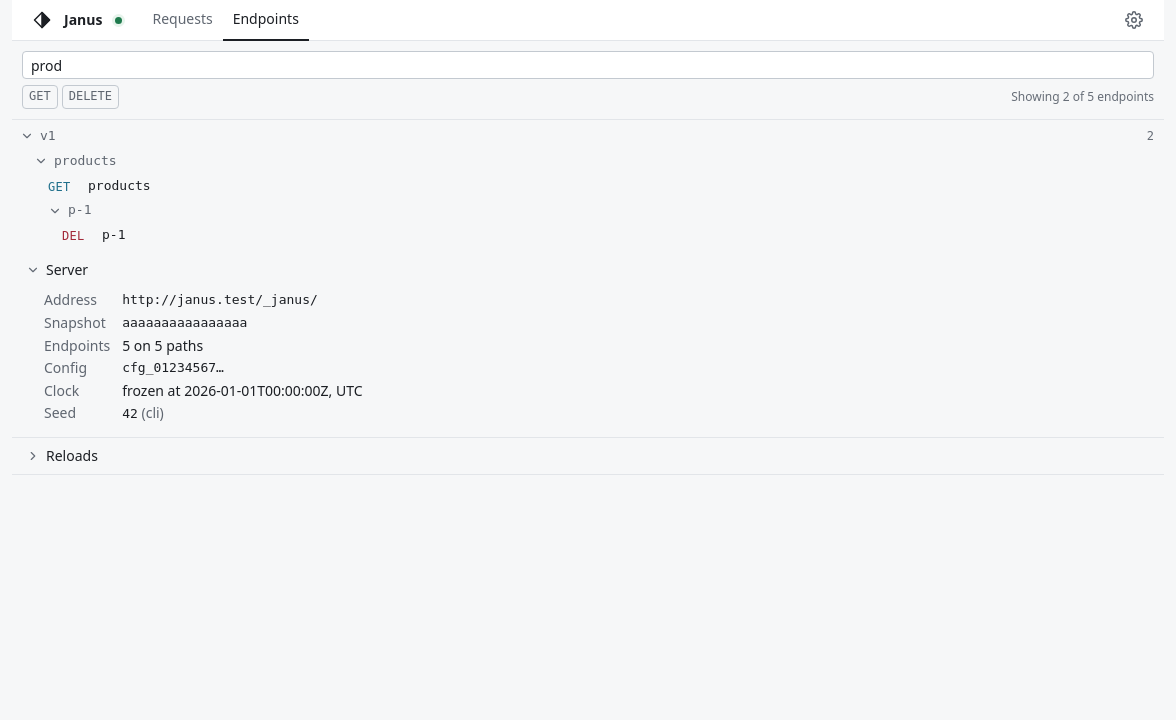
Test: responsive layout › makes the inventory its own view up to 768 px, with a back link from details
The width and height of the screenshot is (1176, 720).
Expected: the search field holds "prod", [22,51,1154,79]
Click the link with aria-label "GET /v1/products, scenario default". click: [99, 186]
box: [48,178,151,194]
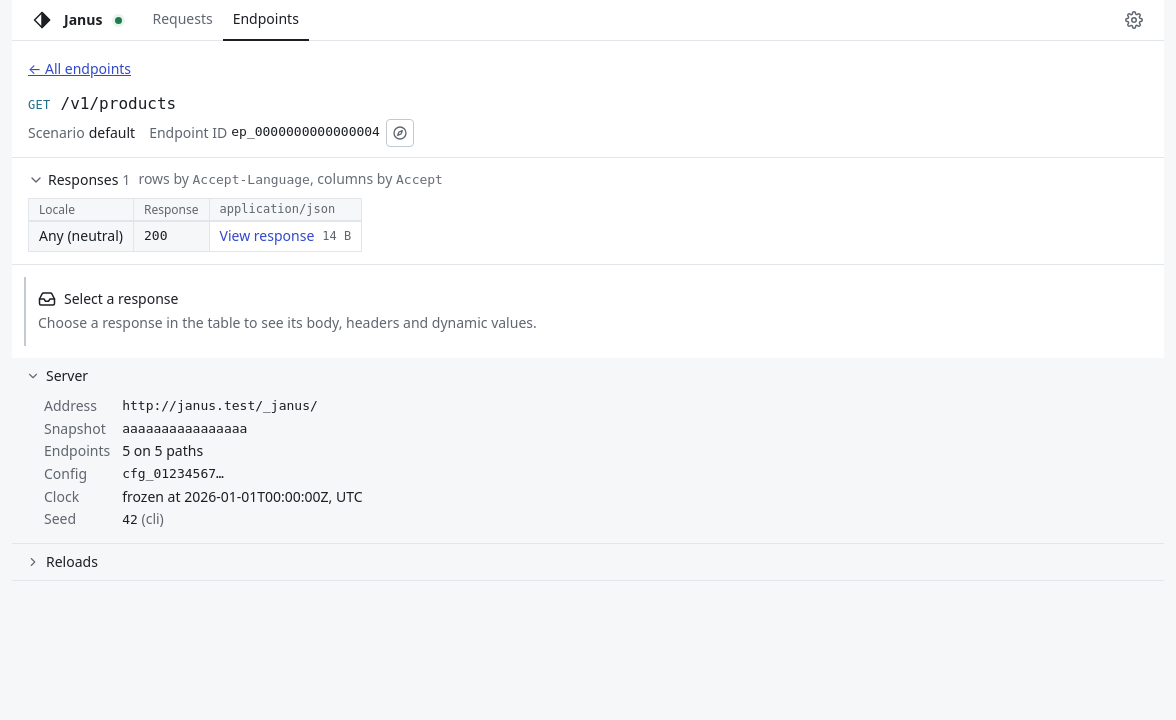
Expected: the heading "GET /v1/products" is shown, [28,94,176,113]
Click the link "← All endpoints". click: [80, 69]
box: [28,57,131,81]
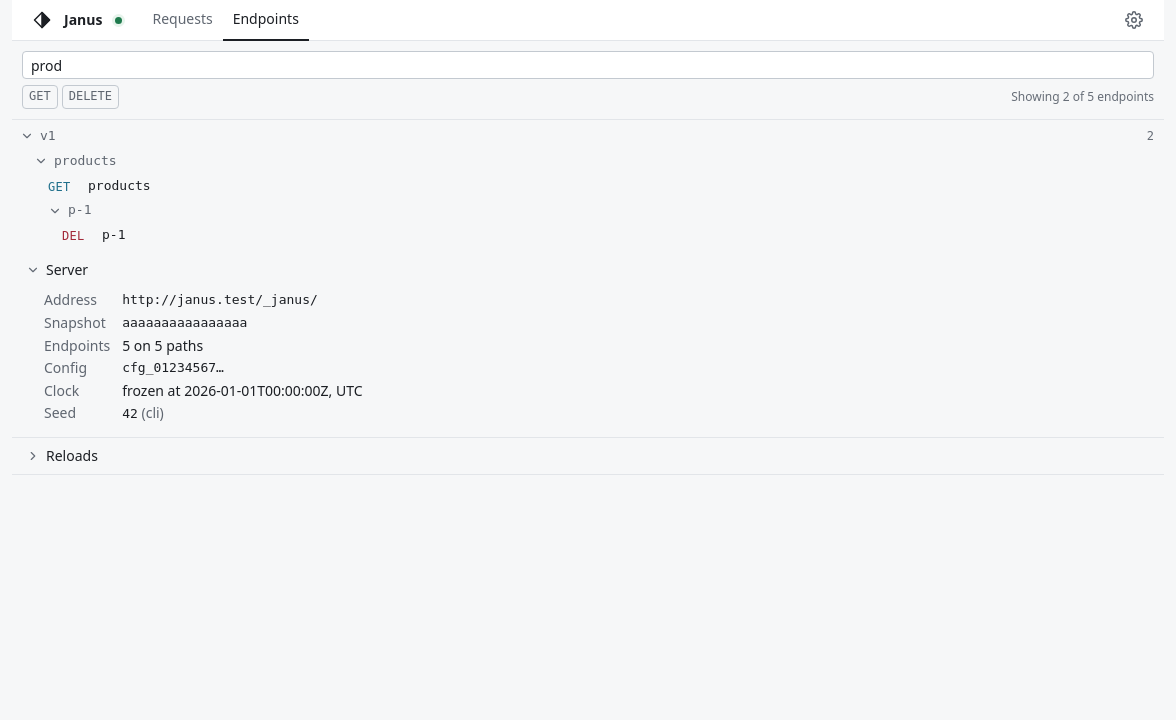
Expected: the navigation bar "endpoints" is shown, [12,41,1164,252]
